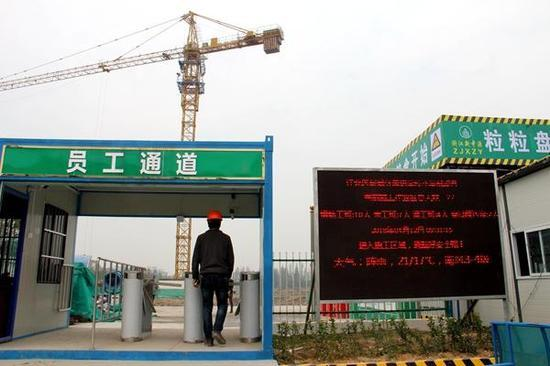helmet: (208, 212, 224, 222)
